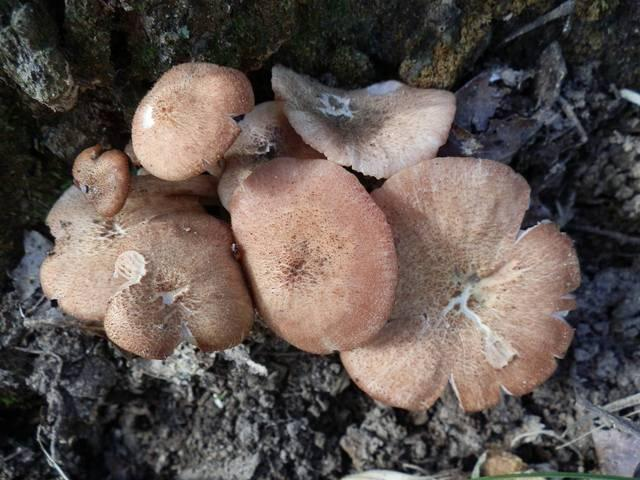edible_mushroom: (38, 59, 581, 413), (337, 154, 581, 413), (38, 143, 254, 360)
